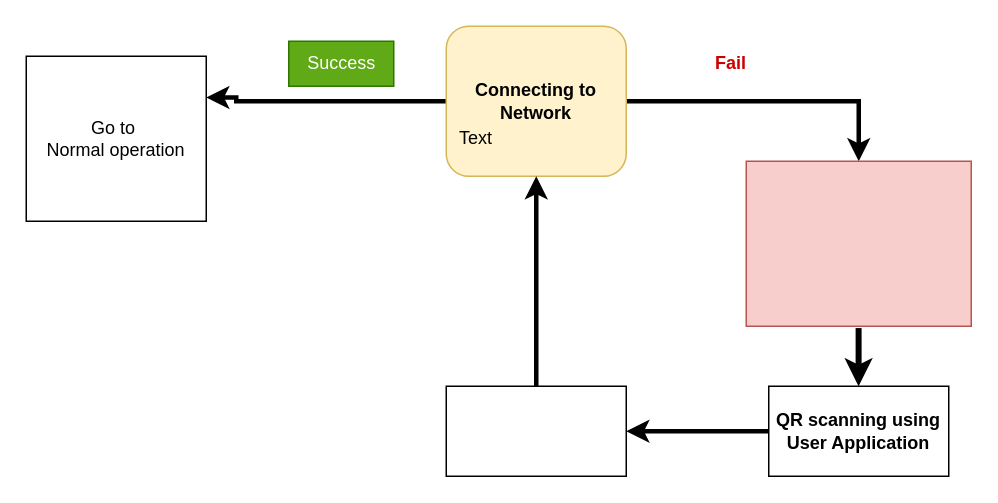
This 998x503 diagram has some shape labels left out. Here are the shapes that lost their labels. From the top down, the box of each, then its label:
(745, 160, 971, 326): Generating Qr Code for network configuration process
(445, 385, 626, 476): Wifi credintials from user application
